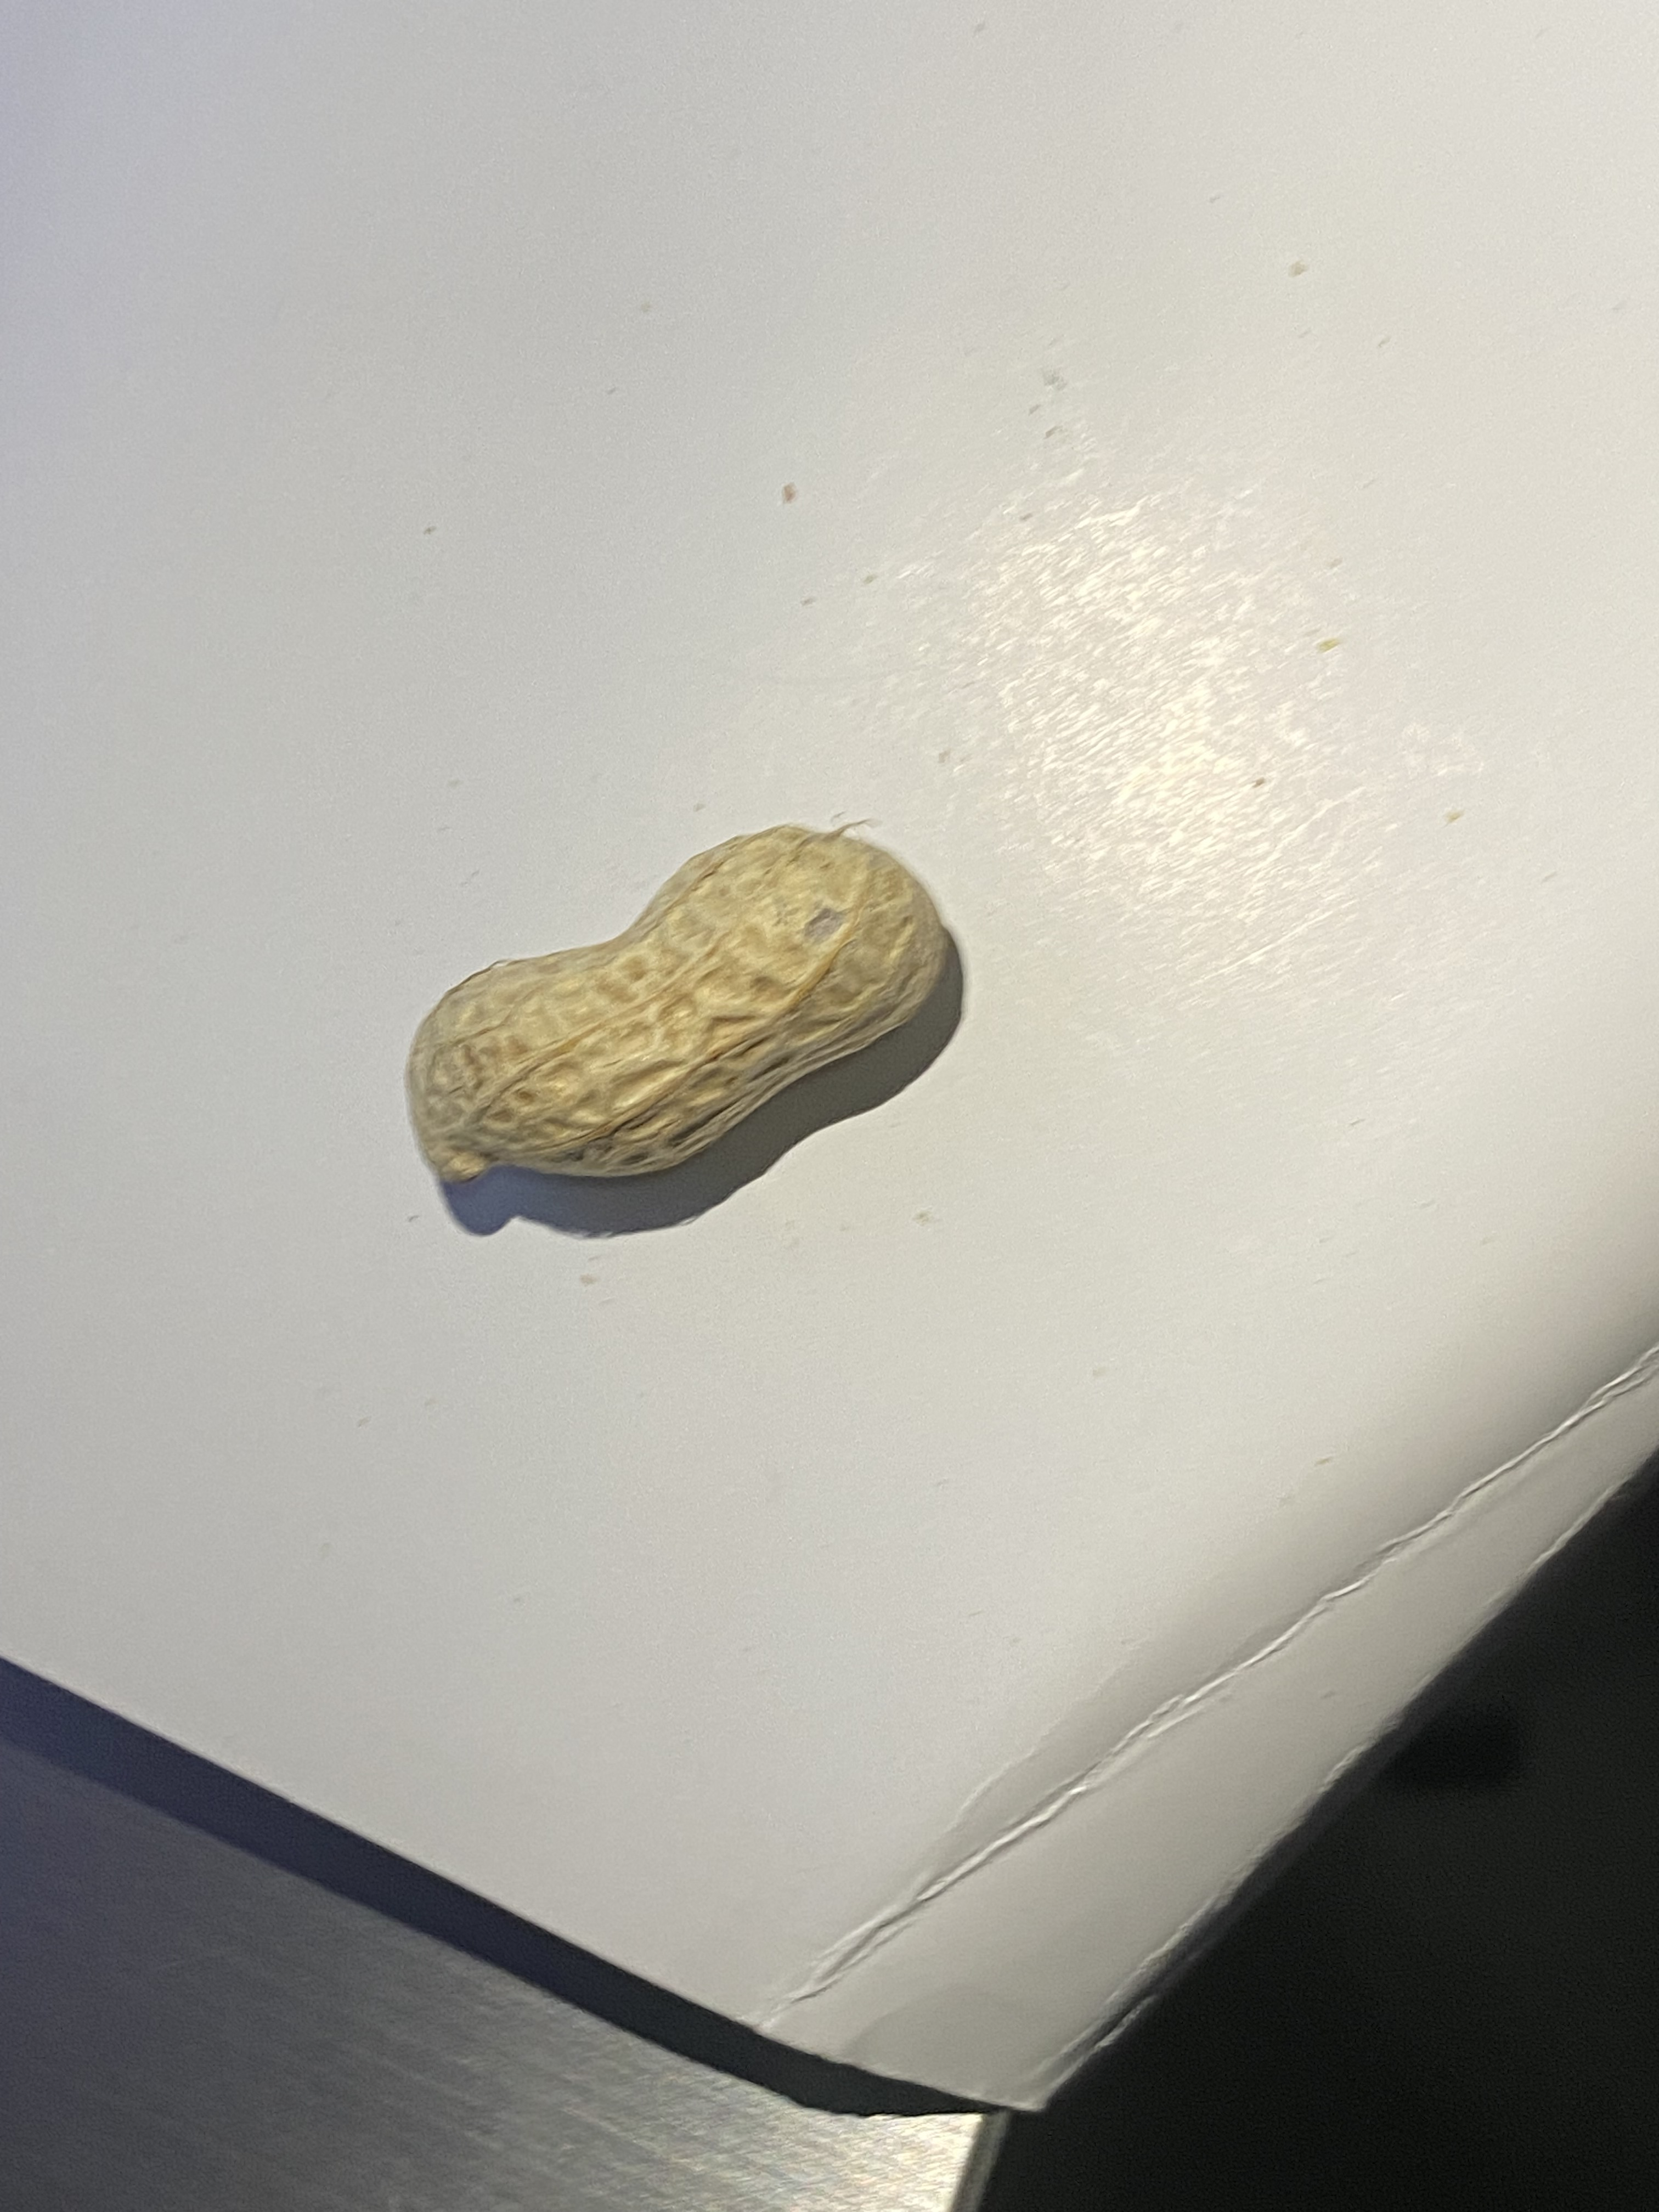kacang2: (347, 787, 983, 1188)
